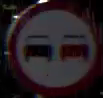No overtake: (6, 0, 97, 92)
